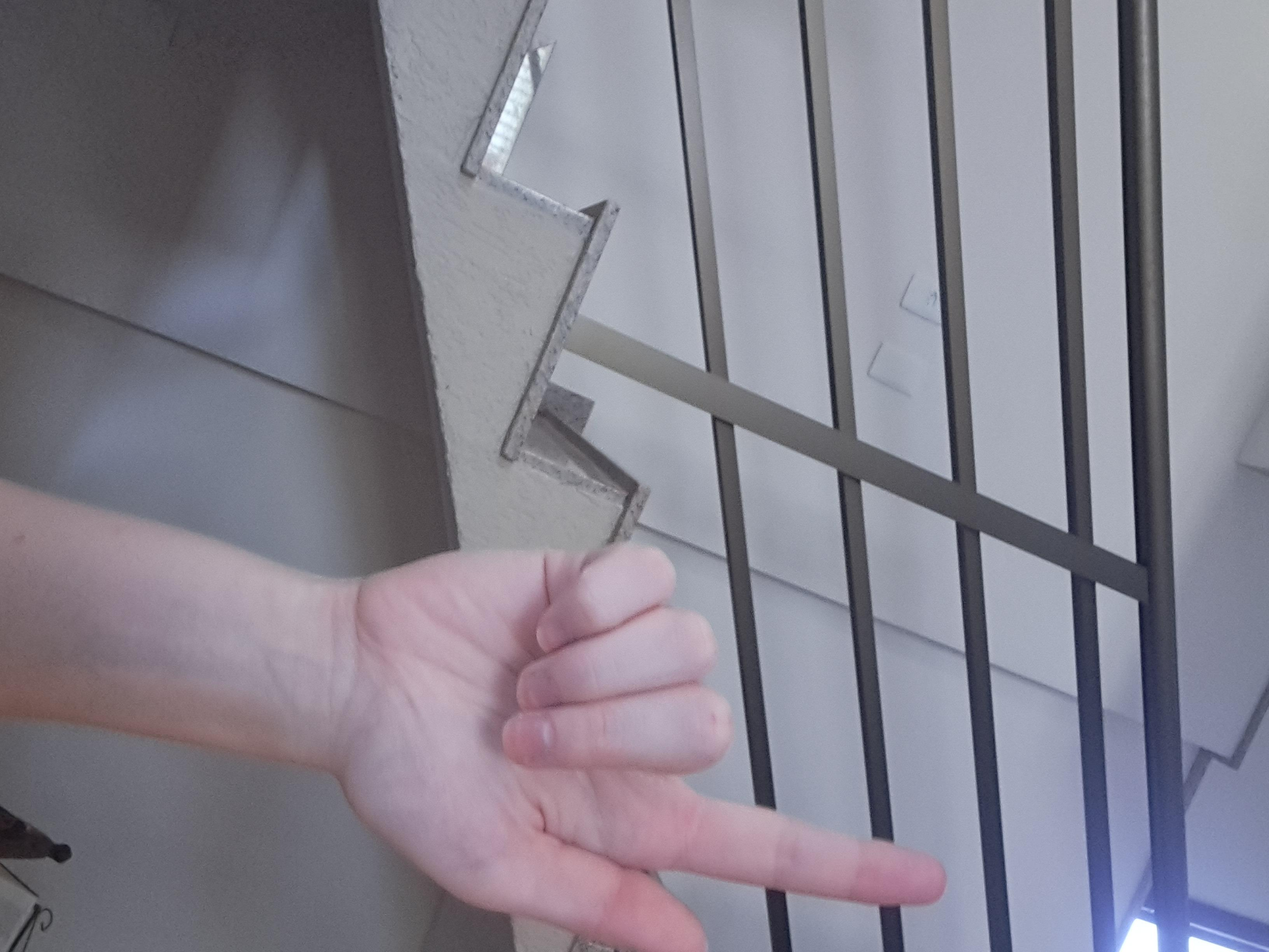G: (689, 230, 1269, 712)
